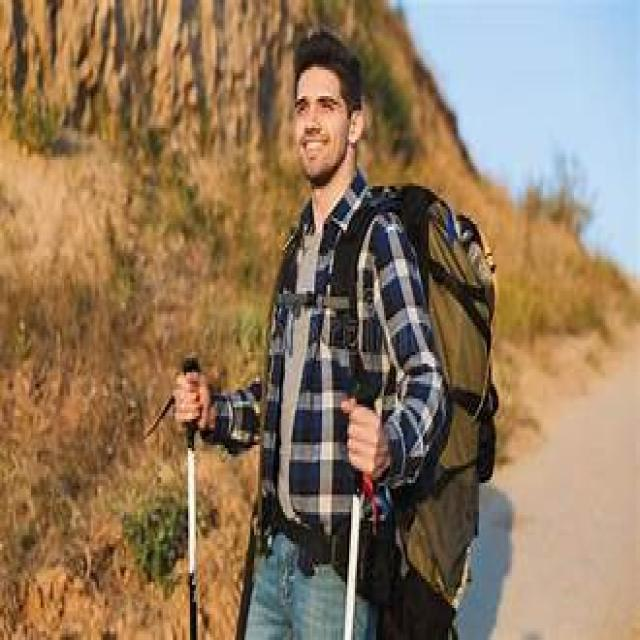backpack: (373, 158, 505, 640)
